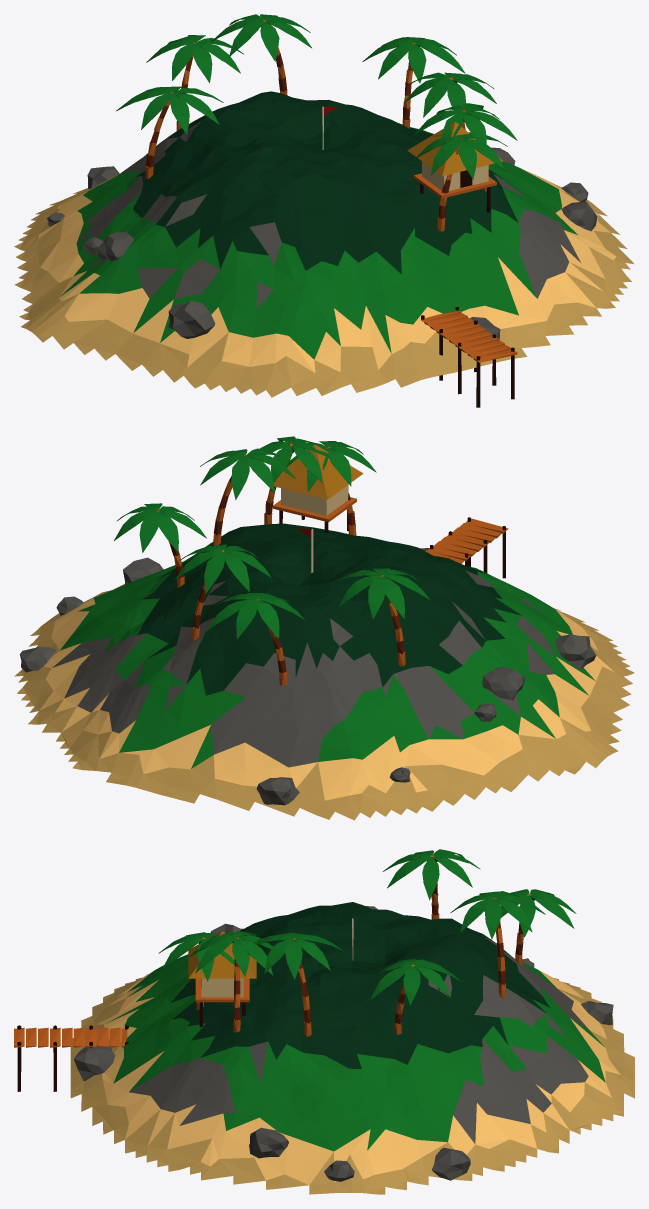
The model's file is turtle_cay.three-web-toon.lod50.glb.
3 renders of one model, top to bottom at view 1: azimuth 30°, elevation 25°; view 2: azimuth 150°, elevation 25°; view 3: azimuth 270°, elevation 25°, orthographic. The views are drawn at different scales.
Visible parts, largest first — view 1: turtle_cay_mesh_lod; view 2: turtle_cay_mesh_lod; view 3: turtle_cay_mesh_lod.
Part boxes in pixels (bbox=[...]): turtle_cay_mesh_lod: bbox=[14, 14, 634, 407]; turtle_cay_mesh_lod: bbox=[14, 436, 634, 820]; turtle_cay_mesh_lod: bbox=[14, 849, 634, 1194].
Bounding box in the file's own units: 32.06 × 11.02 × 32.19.
